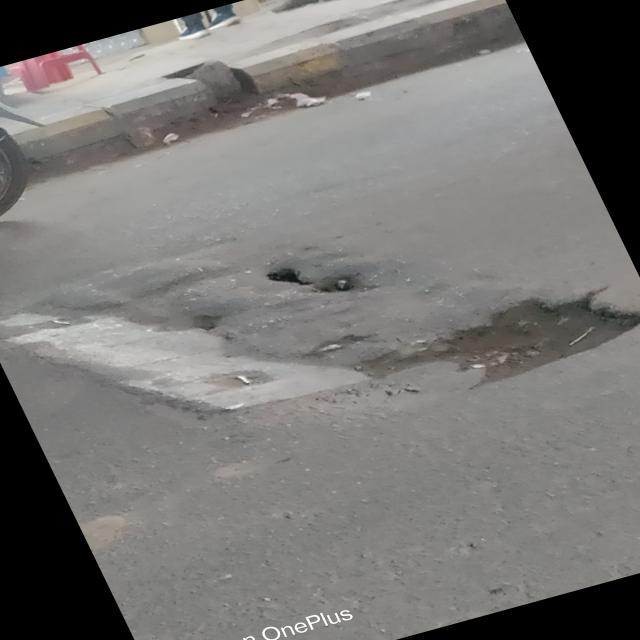potholes: (12, 258, 632, 408)
